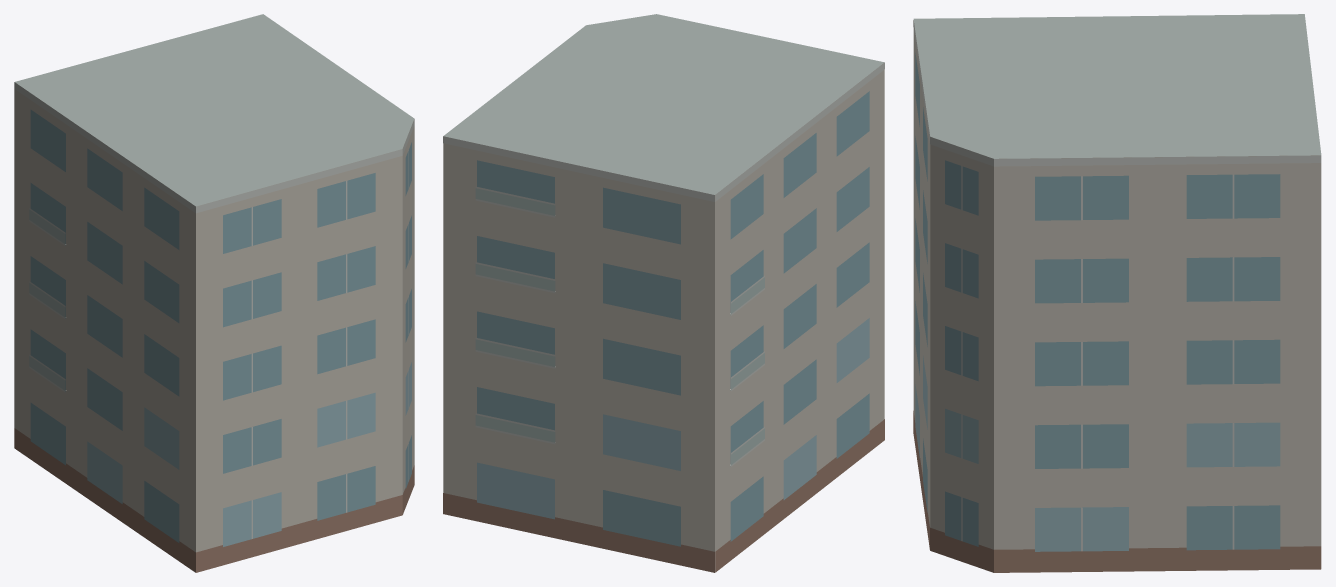
Rendered from survey-upis-33006080.glb.
3 views of the same model, side by side, from view 1: azimuth 30°, elevation 25°; view 2: azimuth 150°, elevation 25°; view 3: azimuth 270°, elevation 25° (orthographic). The views are drawn at different scales.
Visible parts, largest first — view 1: survey-upis-33006080.tmp; view 2: survey-upis-33006080.tmp; view 3: survey-upis-33006080.tmp.
Part boxes in pixels (x1,y1,x2,y2): survey-upis-33006080.tmp: (14,14,414,572); survey-upis-33006080.tmp: (443,14,884,572); survey-upis-33006080.tmp: (913,14,1321,572).
Bounding box in the file's own units: 9.84 × 13.1 × 11.71.
